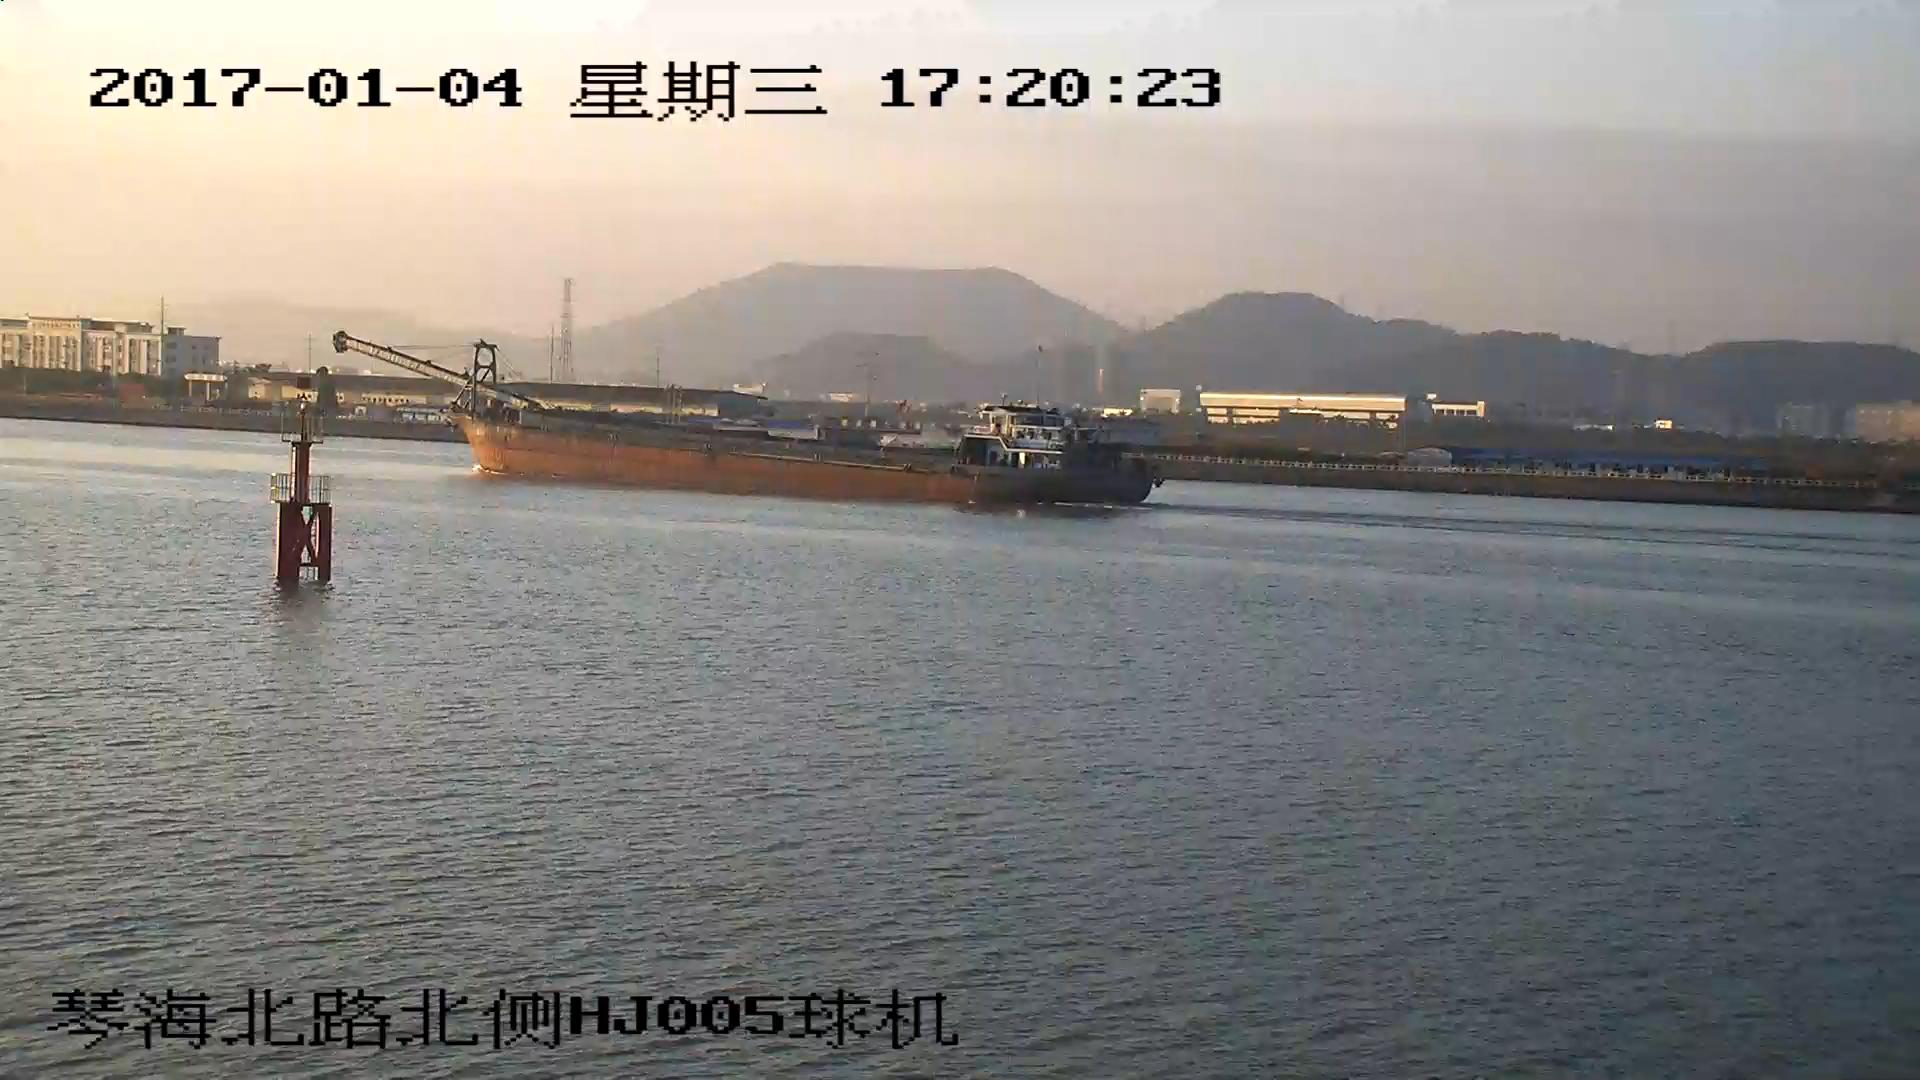bulk cargo carrier: (337, 333, 1157, 510)
